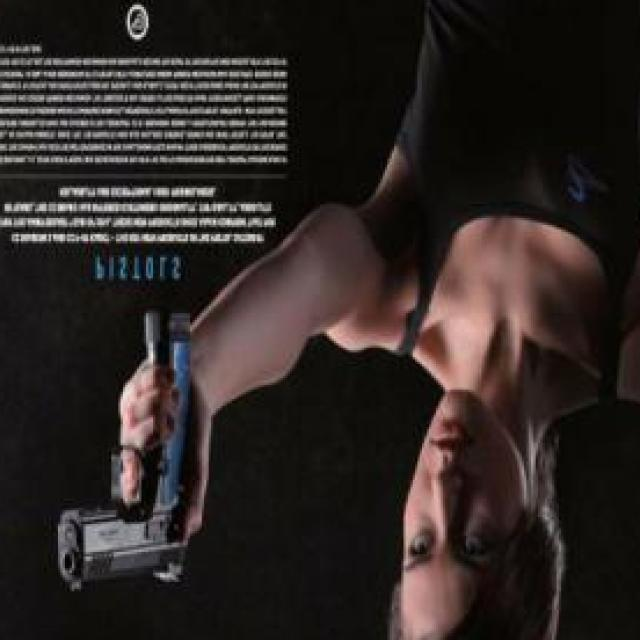pistol: (44, 286, 213, 622)
